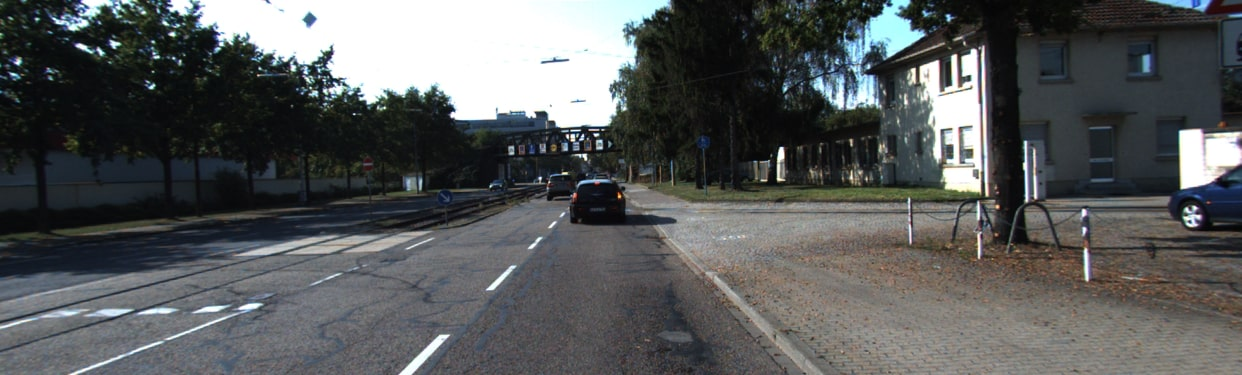car: (572, 176, 625, 225), (541, 173, 572, 198), (487, 177, 508, 194)
